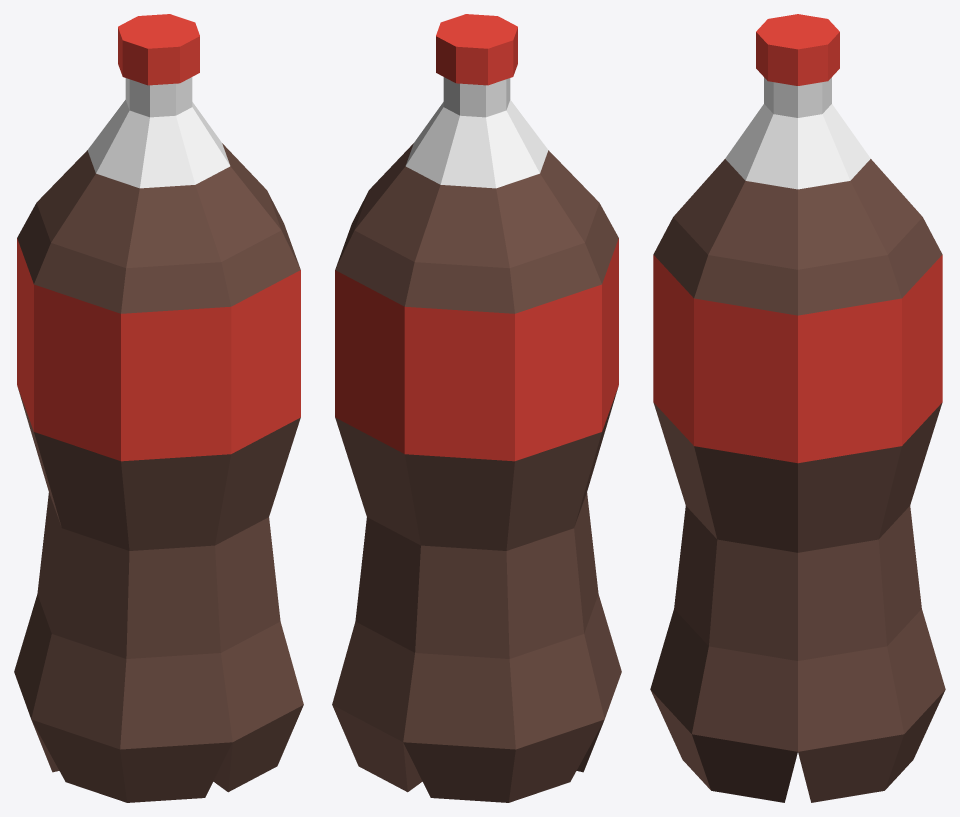
Rendered from soda.fbx.
3 views of the same model, side by side, from view 1: azimuth 30°, elevation 25°; view 2: azimuth 150°, elevation 25°; view 3: azimuth 270°, elevation 25° (orthographic).
Parts seen in each view (by area): view 1: Cube.019_Cube.029; view 2: Cube.019_Cube.029; view 3: Cube.019_Cube.029.
Boxes of the visible parts, x1,y1,x2,y2 form: Cube.019_Cube.029: (14,14,303,802); Cube.019_Cube.029: (332,14,621,802); Cube.019_Cube.029: (650,14,945,802).
Bounding box in the file's own units: 128 × 347 × 128.
